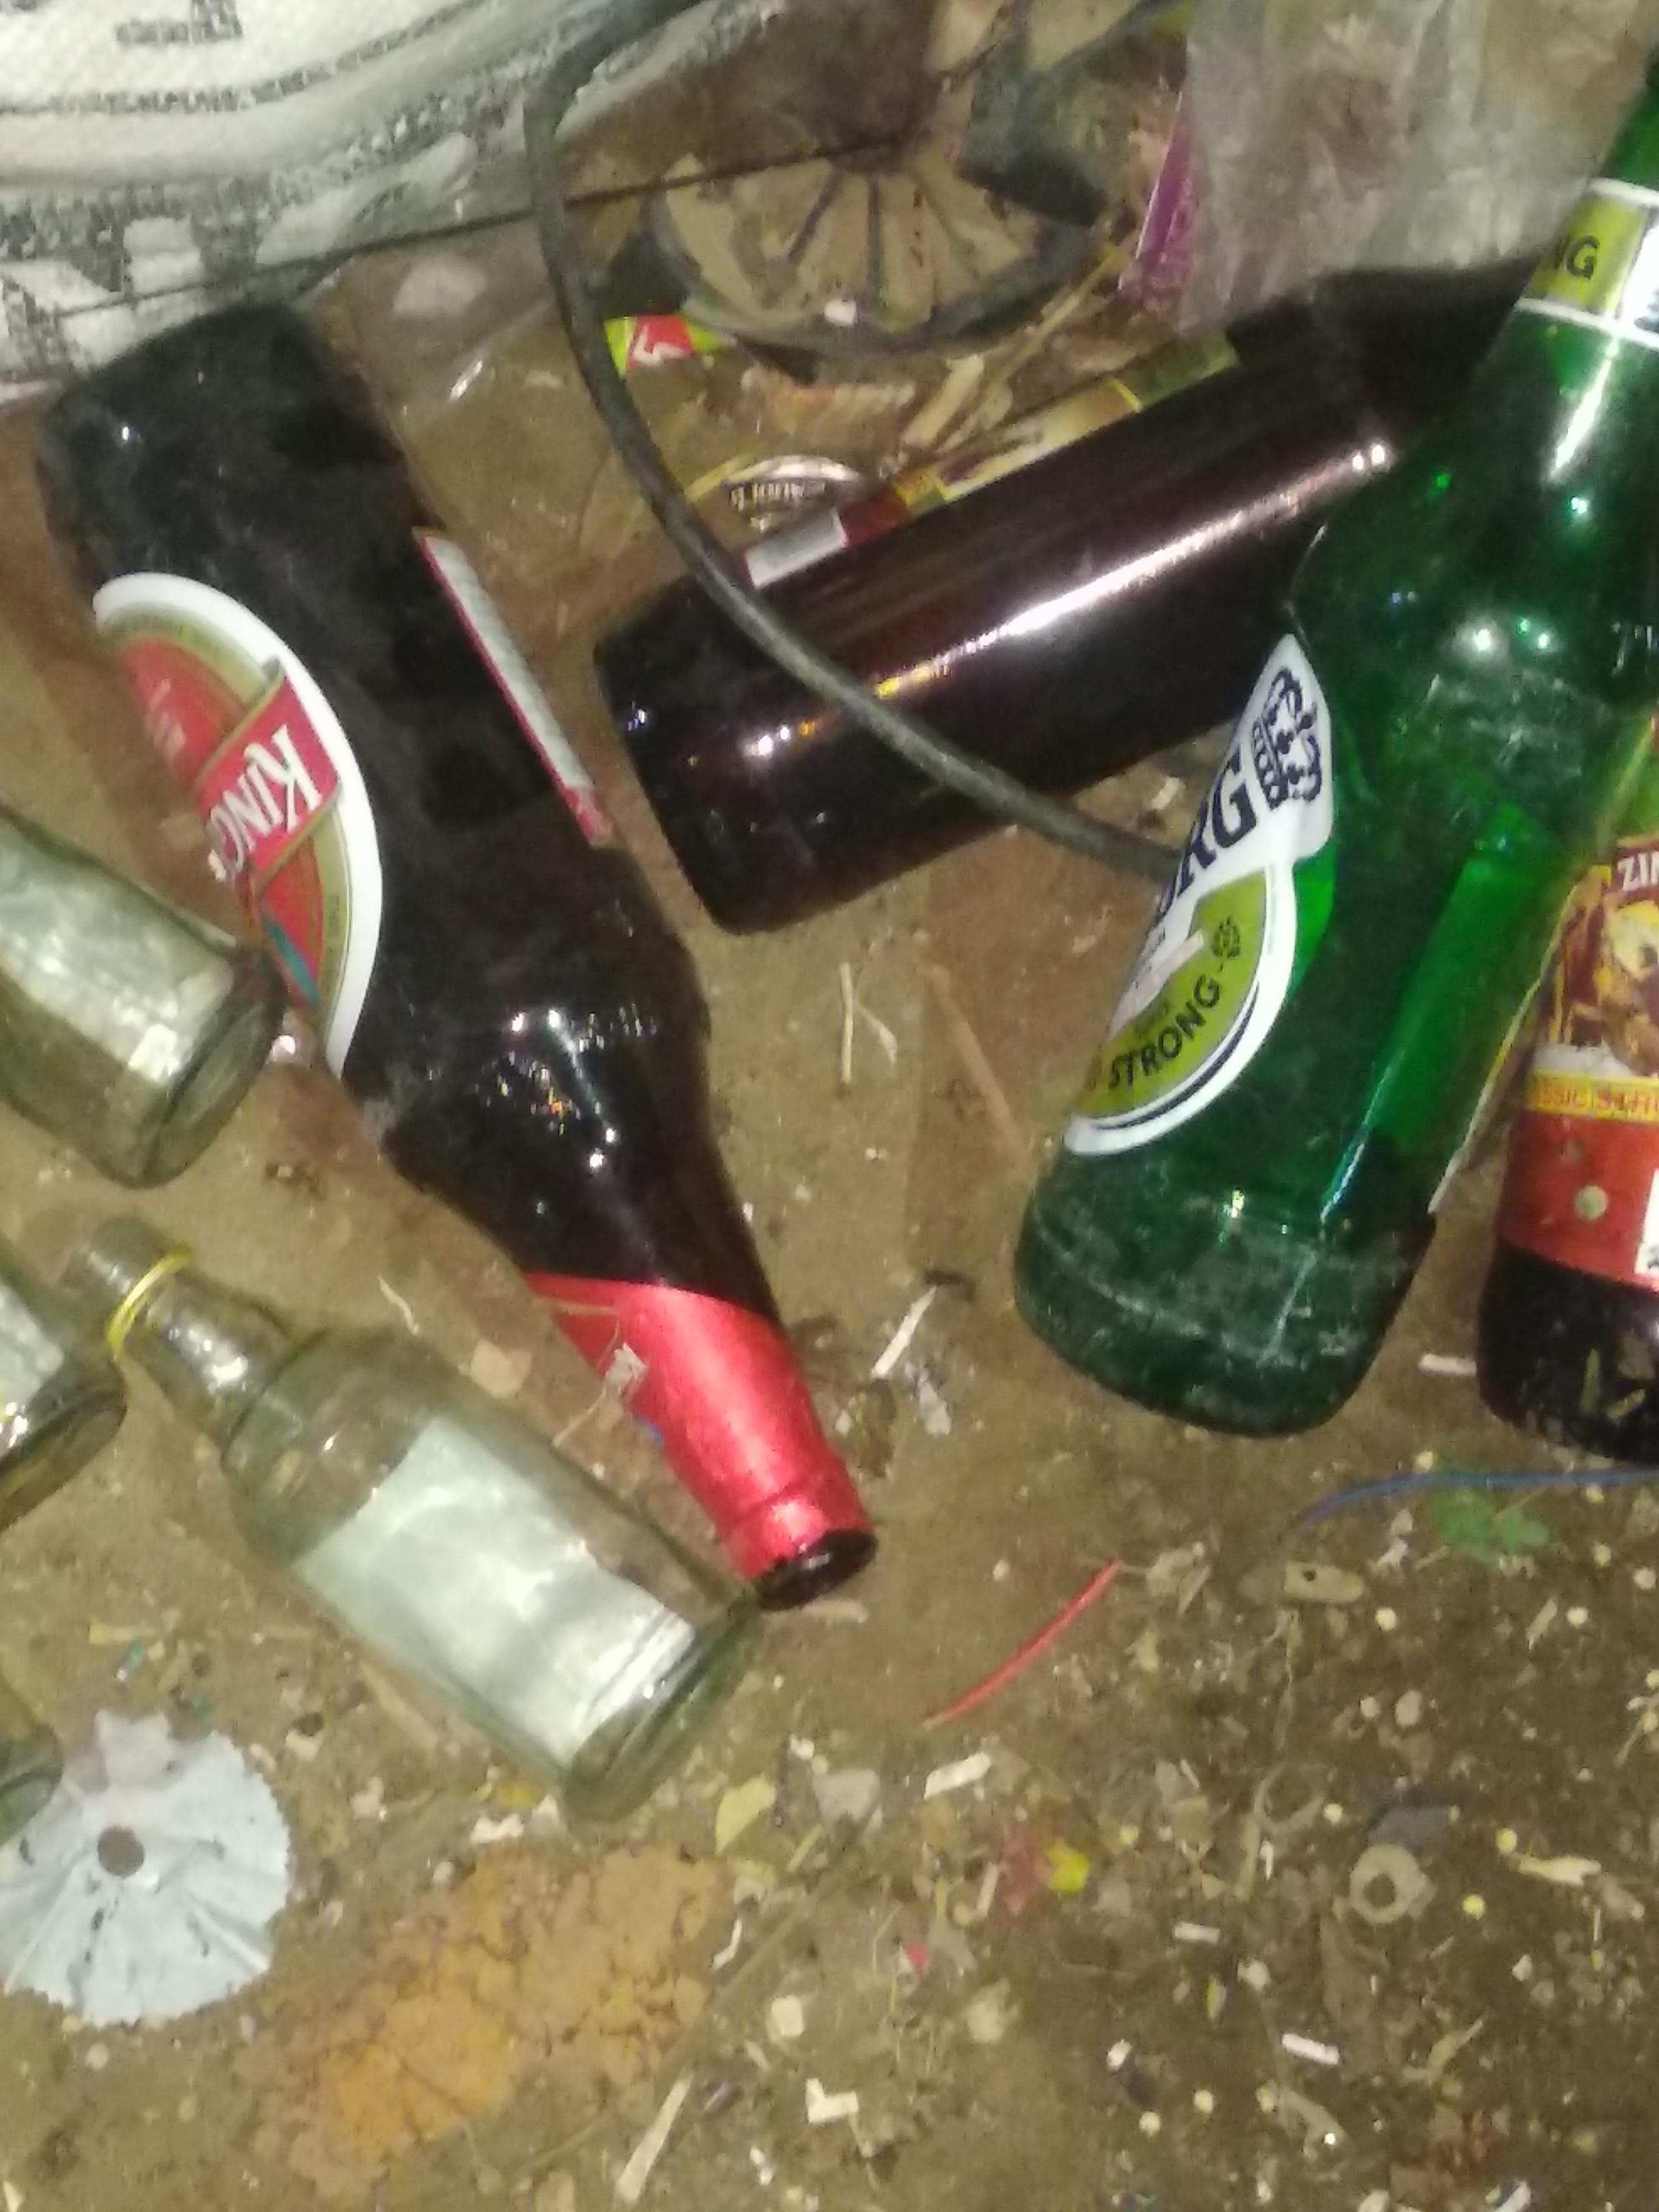trash: (7, 0, 1659, 1850)
